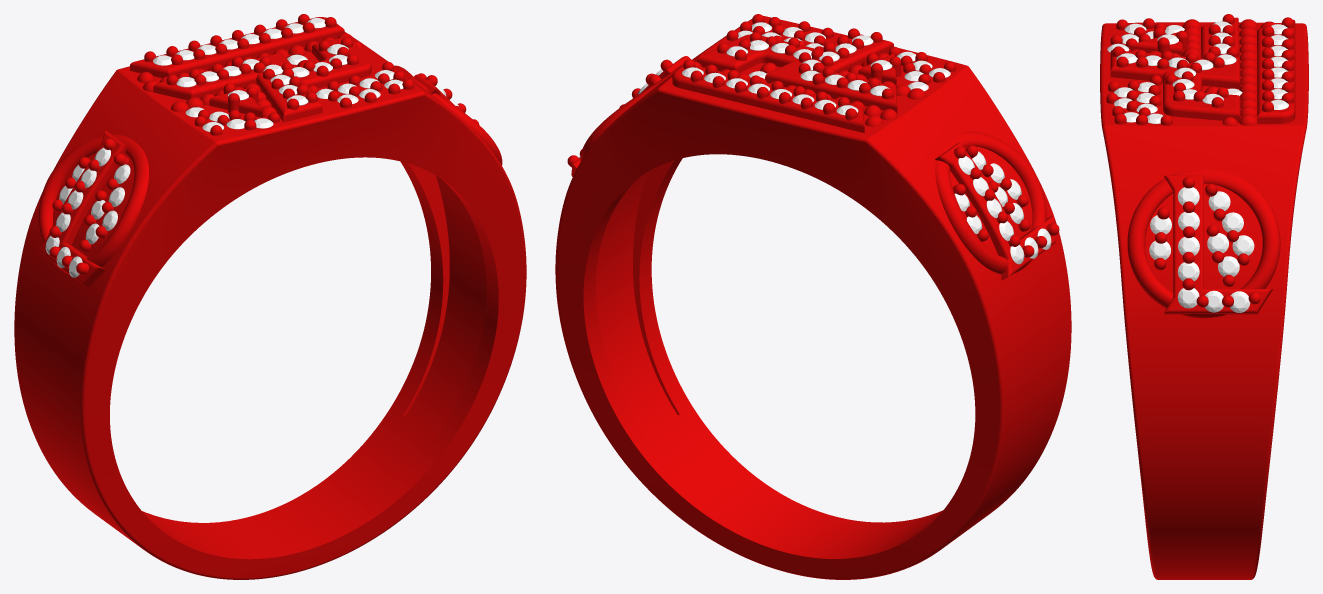
The picture shows the model from 3 angles, left to right: view 1: azimuth 30°, elevation 25°; view 2: azimuth 150°, elevation 25°; view 3: azimuth 270°, elevation 25°; orthographic projection.
Visible parts, largest first — view 1: anel paingaming.3dm; view 2: anel paingaming.3dm; view 3: anel paingaming.3dm.
Boxes of the visible parts, x1,y1,x2,y2 form: anel paingaming.3dm: (14, 14, 526, 579); anel paingaming.3dm: (555, 14, 1071, 579); anel paingaming.3dm: (1100, 14, 1308, 579).
Bounding box in the file's own units: 2.64 × 2.81 × 1.07.
